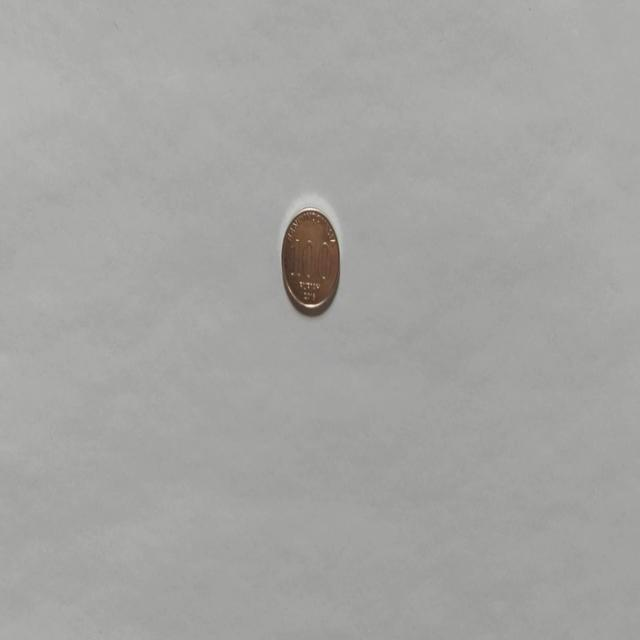seratus rupiah: (280, 206, 340, 316)
